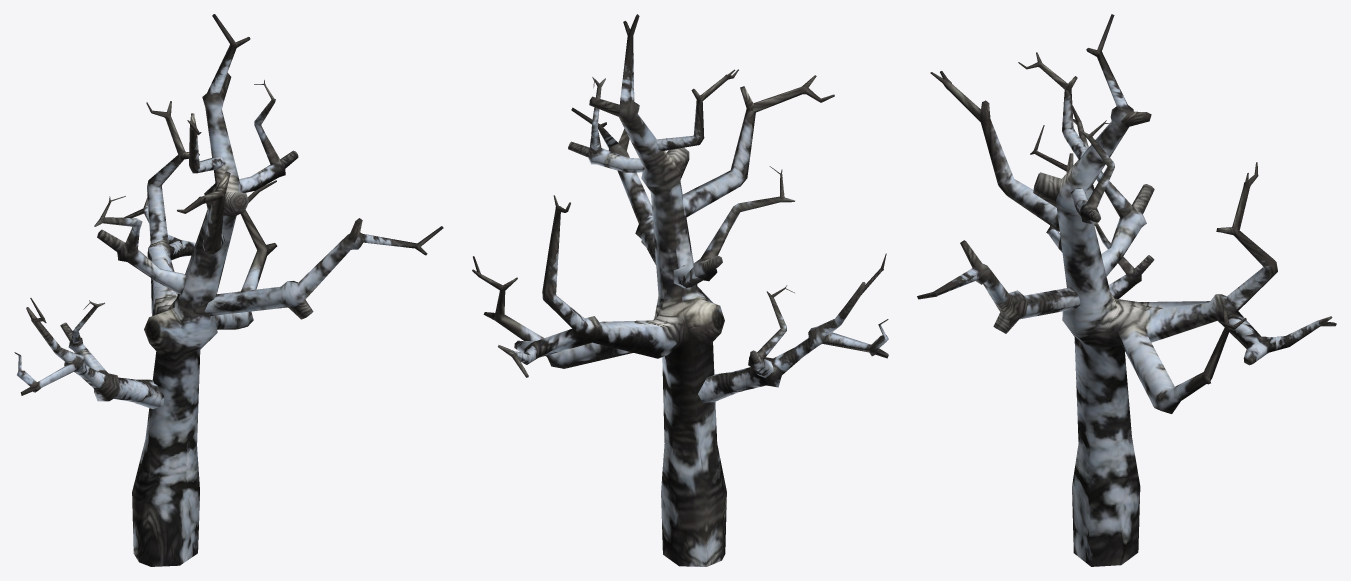
Rendered from Stage_BingYuan_Shu04.FBX.
The picture shows the model from 3 angles, left to right: view 1: azimuth 30°, elevation 25°; view 2: azimuth 150°, elevation 25°; view 3: azimuth 270°, elevation 25°; orthographic projection. The views are drawn at different scales.
Visible parts, largest first — view 1: Stage_BingYuan_Shu04; view 2: Stage_BingYuan_Shu04; view 3: Stage_BingYuan_Shu04.
Boxes of the visible parts, box(x1,y1,x2,y2) form: Stage_BingYuan_Shu04: box(14, 14, 443, 566); Stage_BingYuan_Shu04: box(472, 14, 888, 566); Stage_BingYuan_Shu04: box(917, 14, 1336, 566).
Bounding box in the file's own units: 399 × 540 × 363.
